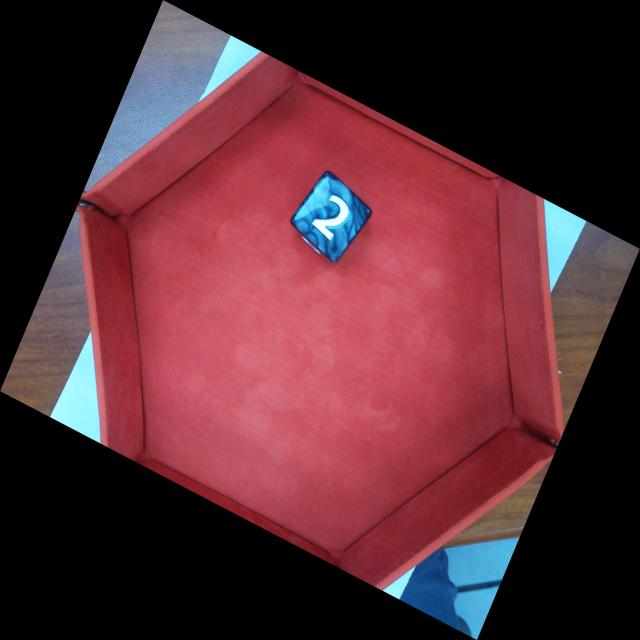dice: (287, 165, 375, 266)
